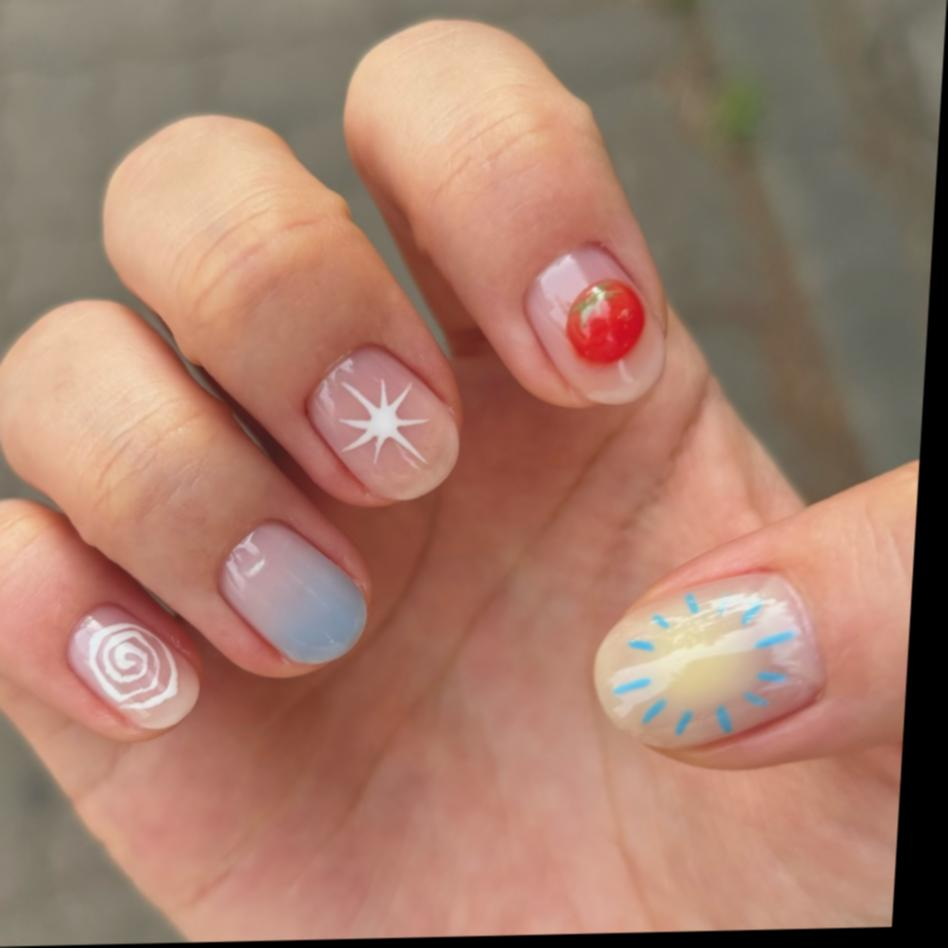nail: (587, 567, 832, 753), (299, 338, 466, 505), (516, 239, 672, 407), (210, 515, 374, 668), (59, 599, 205, 734), (562, 276, 648, 365)
